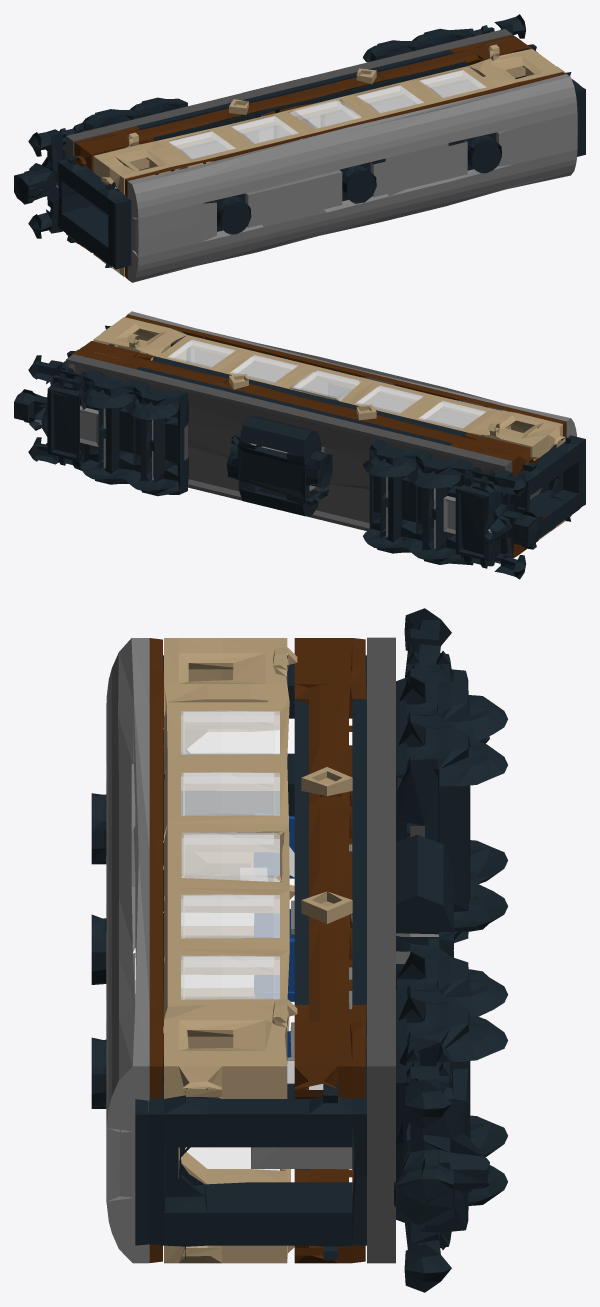
The model's file is coach.glb.
The picture shows the model from 3 angles, top to bottom: view 1: azimuth 30°, elevation 25°; view 2: azimuth 150°, elevation 25°; view 3: azimuth 270°, elevation 25°; orthographic projection. The views are drawn at different scales.
Size of the model in its own units: 264 by 60.71 by 92.02.
